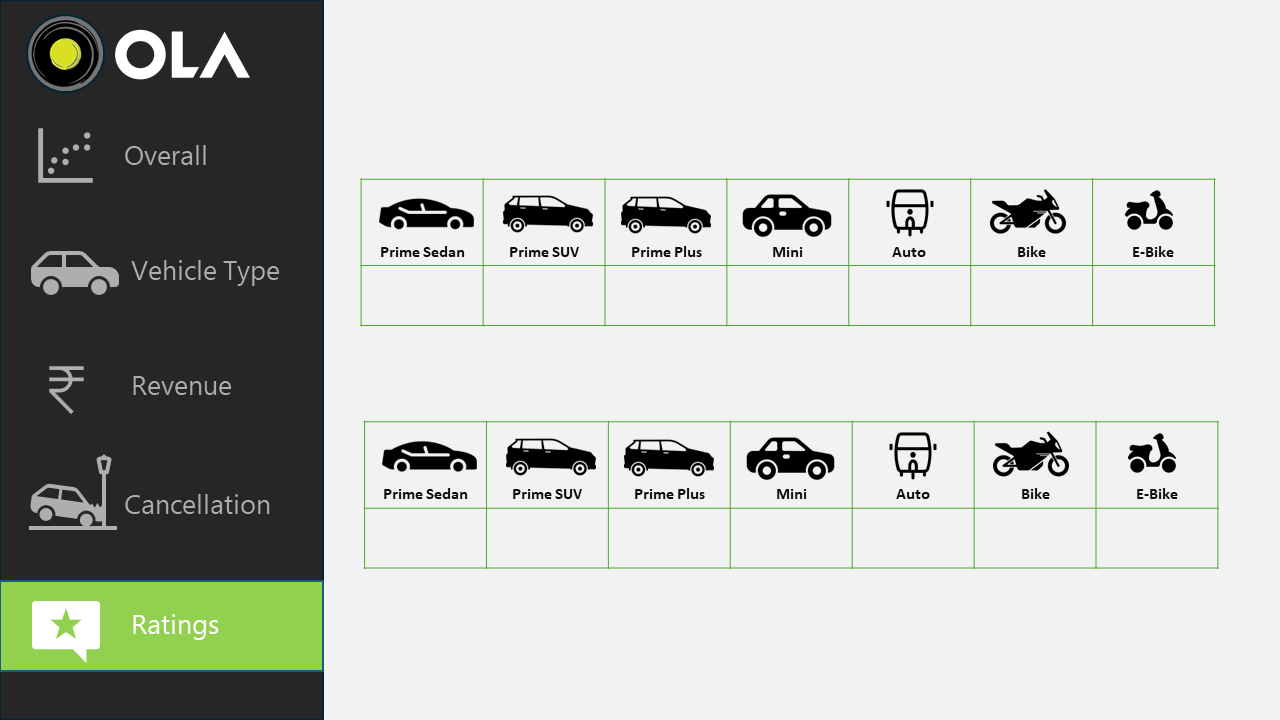

What the dashboard file says about the page in this screenshot:
{"tool":"powerbi","page":{"name":"Ratings","canvas":[1280,720],"ordinal":4},"visuals":[{"type":"actionButton","box":[0,226.2,323.8,97.6],"z":0},{"type":"actionButton","box":[0,102,324.5,98.3],"z":1000},{"type":"actionButton","box":[0,341.2,324.5,98.3],"z":2000},{"type":"actionButton","box":[0,439.4,324.5,98.3],"z":3000},{"type":"card","title":"Total Value","fields":{"Values":["Avg(Bookings.Driver_Ratings)"]},"box":[355.3,262.2,125,61.3],"z":4000},{"type":"card","title":"Total Value","fields":{"Values":["Avg(Bookings.Driver_Ratings)"]},"box":[482.7,262.2,125,61.3],"z":4001},{"type":"card","title":"Total Value","fields":{"Values":["Avg(Bookings.Driver_Ratings)"]},"box":[607.7,259.8,125,61.3],"z":4002},{"type":"card","title":"Total Value","fields":{"Values":["Avg(Bookings.Driver_Ratings)"]},"box":[725.3,259.8,125,61.3],"z":4003},{"type":"card","title":"Total Value","fields":{"Values":["Avg(Bookings.Driver_Ratings)"]},"box":[850.3,259.8,125,61.3],"z":4004},{"type":"card","title":"Total Value","fields":{"Values":["Avg(Bookings.Driver_Ratings)"]},"box":[970.4,262.2,125,61.3],"z":4005},{"type":"card","title":"Total Value","fields":{"Values":["Avg(Bookings.Driver_Ratings)"]},"box":[1095.4,259.8,125,61.3],"z":4006},{"type":"card","title":"Total Value","fields":{"Values":["Avg(Bookings.Customer_Rating)"]},"box":[360.2,504.8,125,61.3],"z":4007},{"type":"card","title":"Total Value","fields":{"Values":["Avg(Bookings.Customer_Rating)"]},"box":[485.2,504.8,125,61.3],"z":4008},{"type":"card","title":"Total Value","fields":{"Values":["Avg(Bookings.Customer_Rating)"]},"box":[605.3,504.8,125,61.3],"z":4009},{"type":"card","title":"Total Value","fields":{"Values":["Avg(Bookings.Customer_Rating)"]},"box":[722.9,504.8,125,61.3],"z":4010},{"type":"card","title":"Total Value","fields":{"Values":["Avg(Bookings.Customer_Rating)"]},"box":[852.8,504.8,125,61.3],"z":4011},{"type":"card","title":"Total Value","fields":{"Values":["Avg(Bookings.Customer_Rating)"]},"box":[967.9,504.8,125,61.3],"z":4012},{"type":"card","title":"Total Value","fields":{"Values":["Avg(Bookings.Customer_Rating)"]},"box":[1092.9,504.8,125,61.3],"z":4013},{"type":"textbox","box":[355.3,102.9,218.1,53.9],"z":4014},{"type":"textbox","box":[360.2,340.6,279.4,53.9],"z":4015},{"type":"slicer","title":"Date","fields":{"Values":["Bookings.Date"]},"box":[890,11.1,328.2,152],"z":4016}]}

Visuals, with their boxes on the page's 1280x720 design canvas (x1, y1, x2, y2). These are canvas units, not pixel positions in the 1280x720 screenshot, which may show the page scaled, cropped or inside an application window:
actionButton: (left=0, top=226, right=324, bottom=324)
actionButton: (left=0, top=102, right=324, bottom=200)
actionButton: (left=0, top=341, right=324, bottom=440)
actionButton: (left=0, top=439, right=324, bottom=538)
"Total Value" card: (left=355, top=262, right=480, bottom=324)
"Total Value" card: (left=483, top=262, right=608, bottom=324)
"Total Value" card: (left=608, top=260, right=733, bottom=321)
"Total Value" card: (left=725, top=260, right=850, bottom=321)
"Total Value" card: (left=850, top=260, right=975, bottom=321)
"Total Value" card: (left=970, top=262, right=1095, bottom=324)
"Total Value" card: (left=1095, top=260, right=1220, bottom=321)
"Total Value" card: (left=360, top=505, right=485, bottom=566)
"Total Value" card: (left=485, top=505, right=610, bottom=566)
"Total Value" card: (left=605, top=505, right=730, bottom=566)
"Total Value" card: (left=723, top=505, right=848, bottom=566)
"Total Value" card: (left=853, top=505, right=978, bottom=566)
"Total Value" card: (left=968, top=505, right=1093, bottom=566)
"Total Value" card: (left=1093, top=505, right=1218, bottom=566)
textbox: (left=355, top=103, right=573, bottom=157)
textbox: (left=360, top=341, right=640, bottom=394)
"Date" slicer: (left=890, top=11, right=1218, bottom=163)
